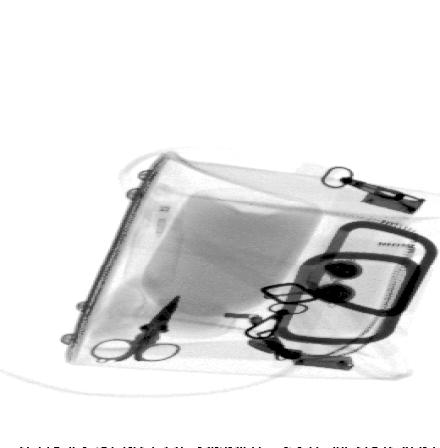Scissors: (91, 293, 185, 362)
